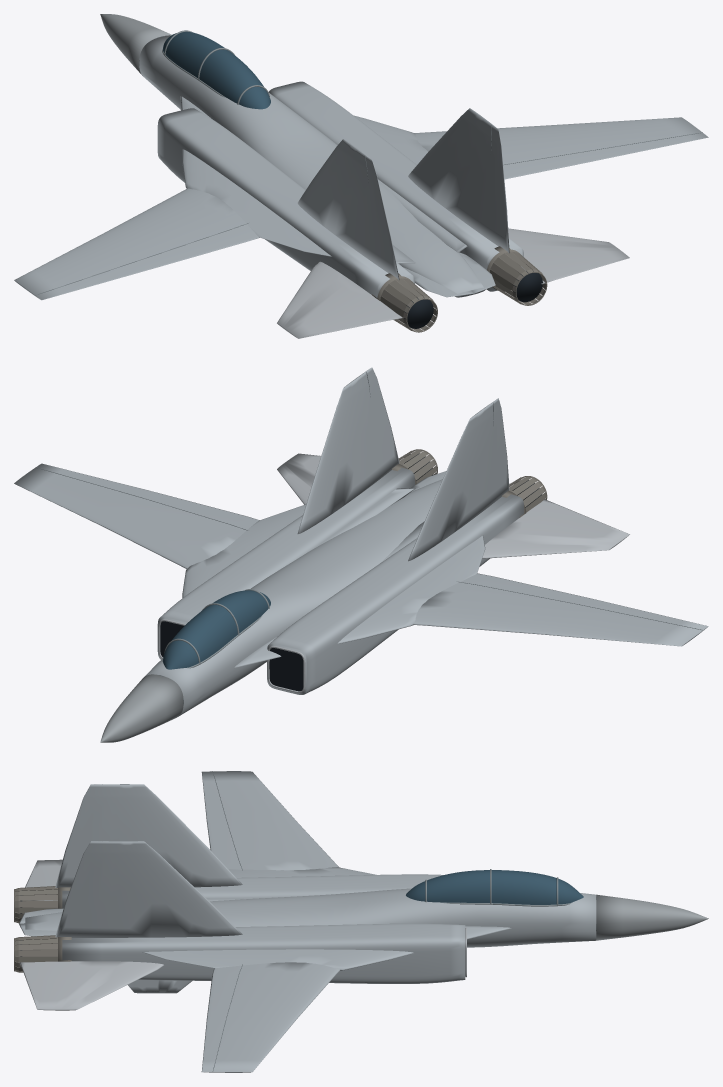
3 views of the same model, one above another, from view 1: azimuth 30°, elevation 25°; view 2: azimuth 150°, elevation 25°; view 3: azimuth 270°, elevation 25° (orthographic). The views are drawn at different scales.
Visible parts, largest first — view 1: static.airframe | neutral grey, wing.swing.port.airframe | neutral grey, static.control surfaces, wing.swing.starboard.airframe | neutral grey, static.tinted canopy, static.nozzle titanium, static.dielectric radome, static.deep recess; view 2: static.airframe | neutral grey, wing.swing.port.airframe | neutral grey, wing.swing.starboard.airframe | neutral grey, static.control surfaces, static.tinted canopy, static.dielectric radome, static.deep recess, static.nozzle titanium; view 3: static.airframe | neutral grey, wing.swing.starboard.airframe | neutral grey, wing.swing.port.airframe | neutral grey, static.control surfaces, static.tinted canopy, static.dielectric radome, static.nozzle titanium.
Boxes of the visible parts, <box> form: static.airframe | neutral grey: <box>139,35,523,297</box>; wing.swing.port.airframe | neutral grey: <box>14,188,259,300</box>; static.control surfaces: <box>277,228,629,338</box>; wing.swing.starboard.airframe | neutral grey: <box>414,117,708,179</box>; static.tinted canopy: <box>163,31,270,109</box>; static.nozzle titanium: <box>372,246,547,332</box>; static.dielectric radome: <box>100,14,171,75</box>; static.deep recess: <box>404,271,542,328</box>; static.airframe | neutral grey: <box>145,367,523,715</box>; wing.swing.port.airframe | neutral grey: <box>413,573,708,646</box>; wing.swing.starboard.airframe | neutral grey: <box>14,463,259,569</box>; static.control surfaces: <box>158,453,629,693</box>; static.tinted canopy: <box>163,590,270,669</box>; static.dielectric radome: <box>100,674,183,742</box>; static.deep recess: <box>160,453,541,691</box>; static.nozzle titanium: <box>392,449,547,517</box>; static.airframe | neutral grey: <box>19,784,596,993</box>; wing.swing.starboard.airframe | neutral grey: <box>201,962,340,1072</box>; wing.swing.port.airframe | neutral grey: <box>201,771,339,870</box>; static.control surfaces: <box>19,859,466,1010</box>; static.tinted canopy: <box>406,870,583,904</box>; static.dielectric radome: <box>596,894,708,940</box>; static.nozzle titanium: <box>14,886,71,972</box>.
Size of the model in its own units: 19.55 by 4.68 by 19.11.
